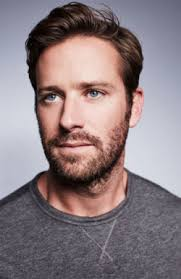s.white: (84, 100, 127, 131)
